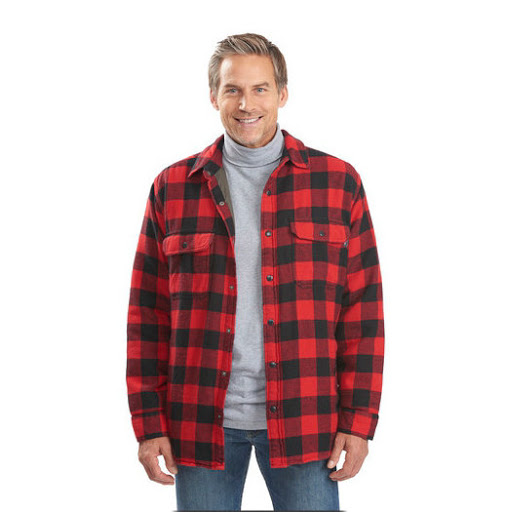squared: (124, 127, 393, 480)
